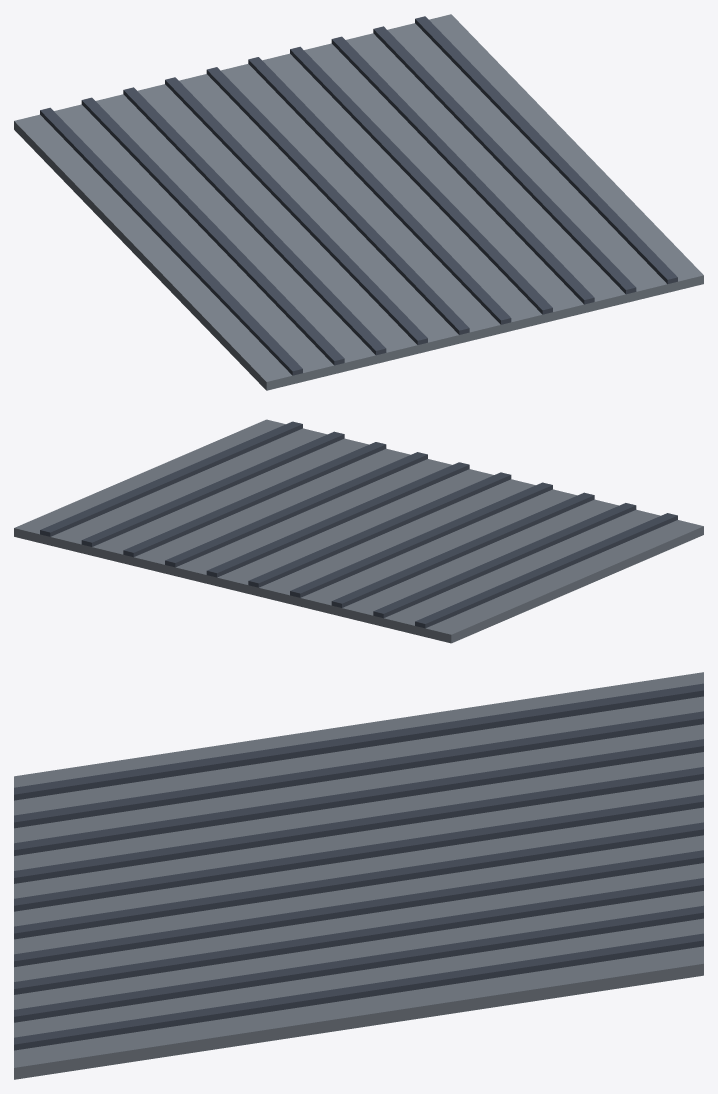
Rendered from roof_corrugated_2x2.glb.
3 views of the same model, one above another, from view 1: azimuth 30°, elevation 25°; view 2: azimuth 150°, elevation 25°; view 3: azimuth 270°, elevation 25° (orthographic). The views are drawn at different scales.
Visible parts, largest first — view 1: roof_corrugated_2x2; view 2: roof_corrugated_2x2; view 3: roof_corrugated_2x2.
Boxes of the visible parts, <box> form: roof_corrugated_2x2: <box>14,14,703,390</box>; roof_corrugated_2x2: <box>14,419,703,643</box>; roof_corrugated_2x2: <box>14,672,703,1079</box>.
Size of the model in its own units: 2.1 by 0.41 by 2.1.
